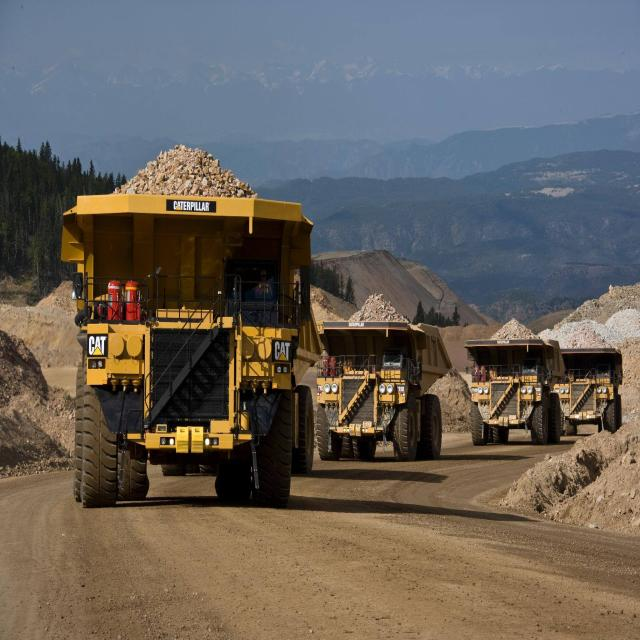dump_truck: (54, 122, 312, 532), (316, 280, 461, 490), (469, 310, 569, 465), (553, 304, 625, 438)
